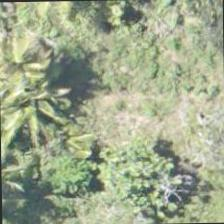Kelapa_Sawit: (0, 55, 72, 147)
